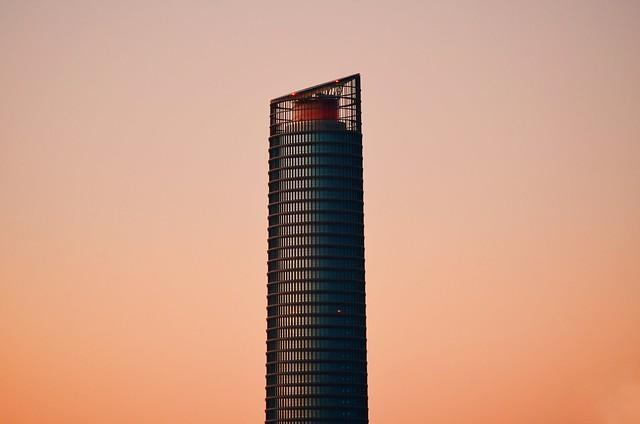building: (256, 71, 374, 422)
